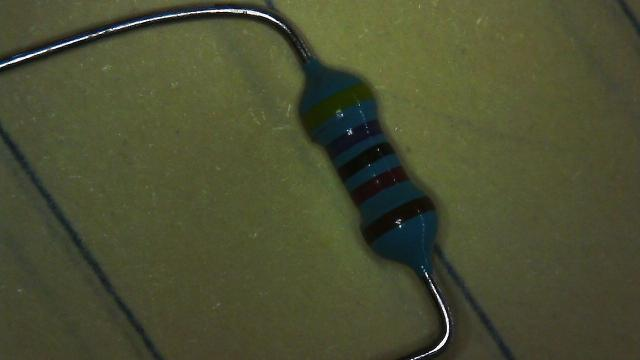black: (336, 142, 394, 178)
brown: (362, 196, 435, 244)
red: (349, 166, 409, 205)
resistor: (278, 61, 468, 281)
violet: (325, 120, 382, 158)
yellow: (301, 82, 373, 133)
